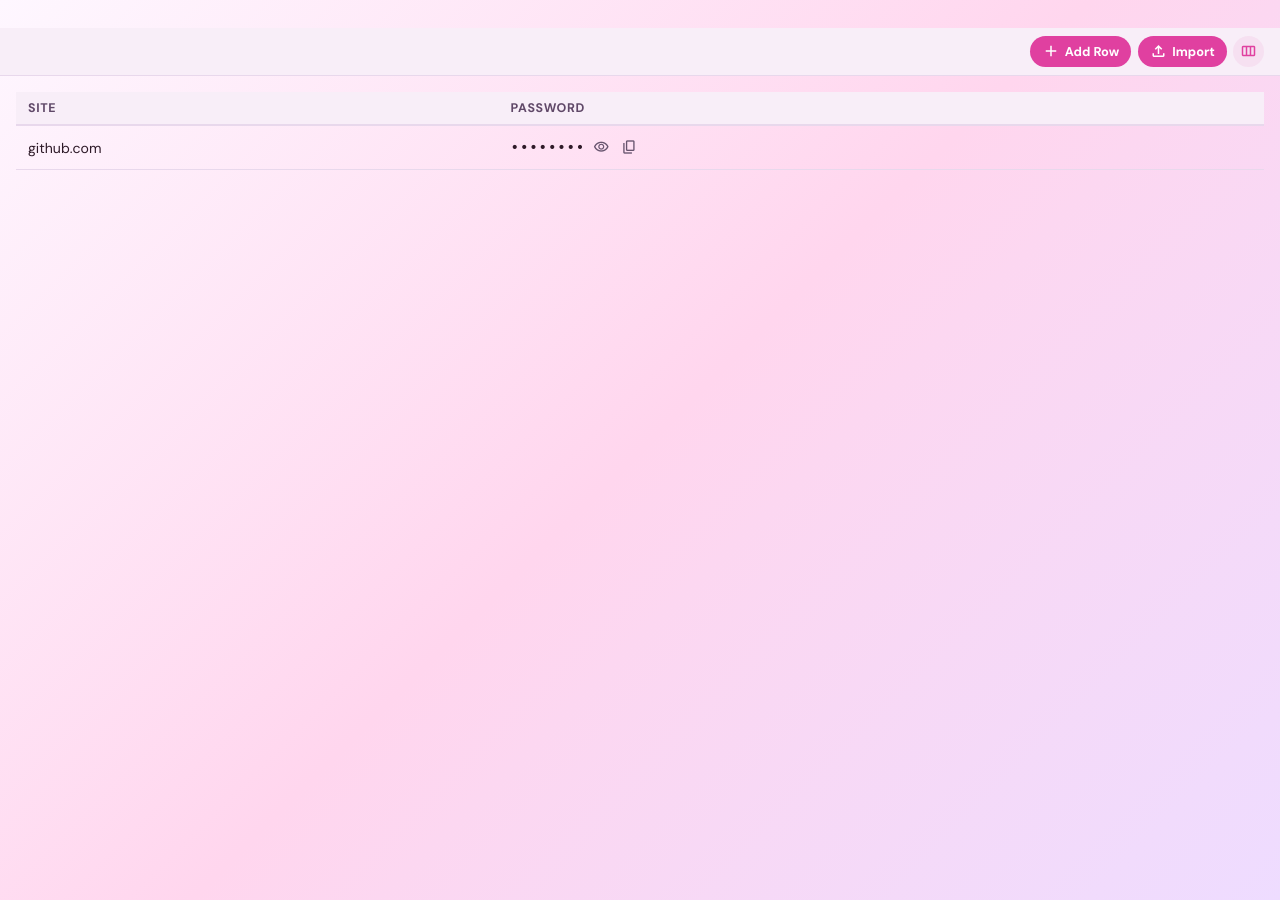
Scenario: TableEditor masked columns › reveals the value only after the user asks
Click the button named "Show value".
click(601, 147)  # box top-left (589, 135), bottom-right (613, 159)
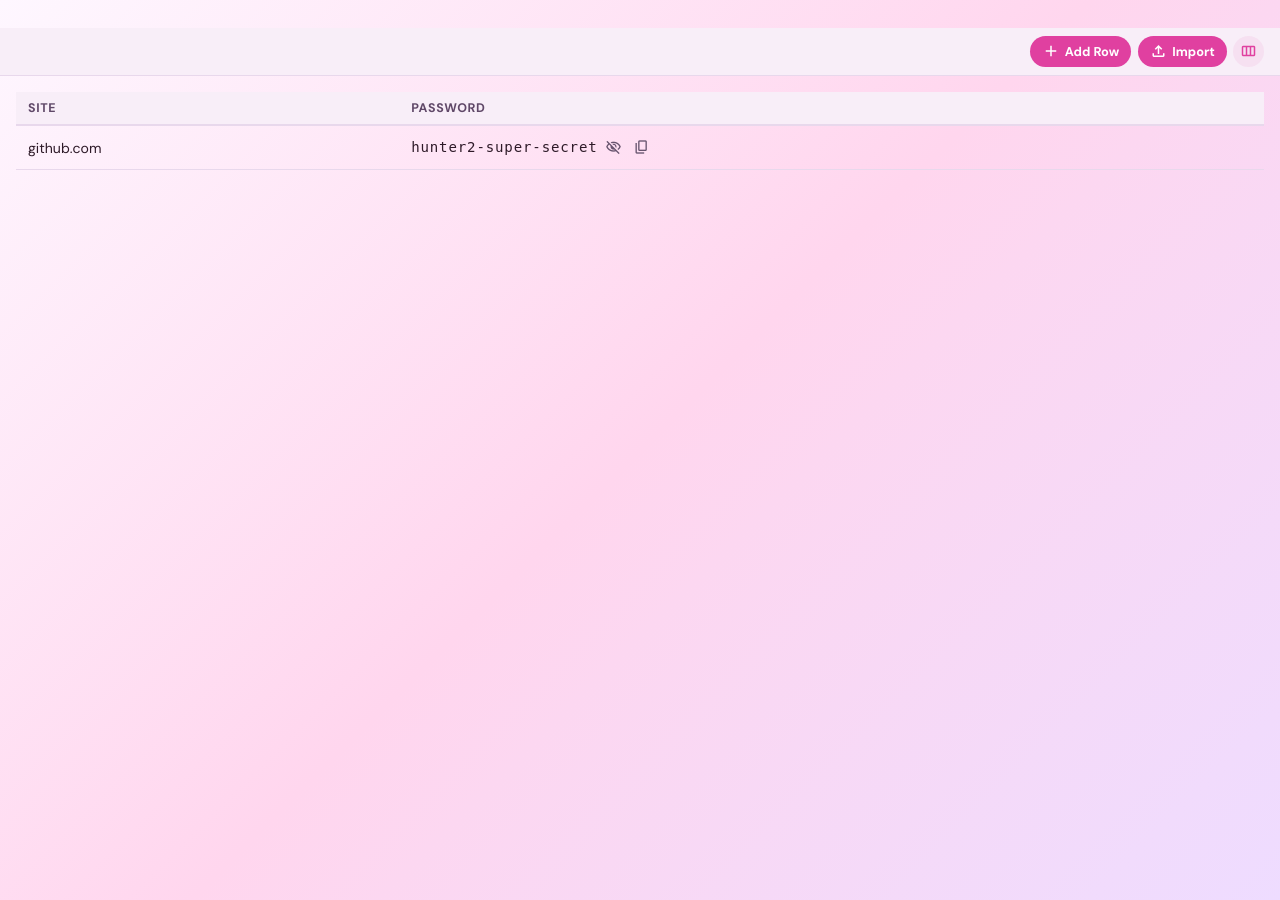
Now the text "hunter2-super-secret" is shown, box top-left (411, 139), bottom-right (598, 155)
